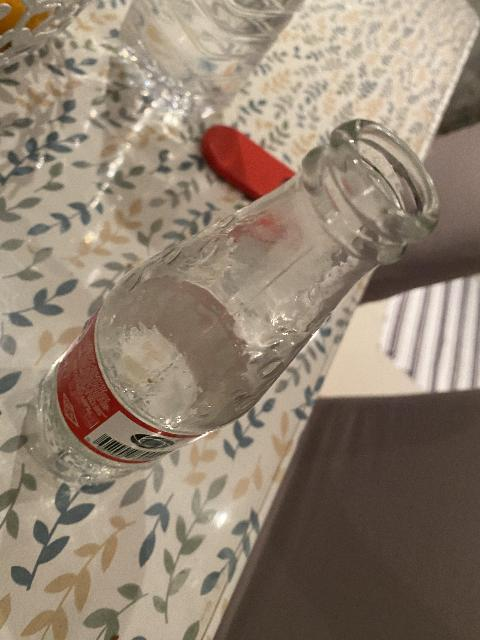Cam: (18, 121, 443, 495)
